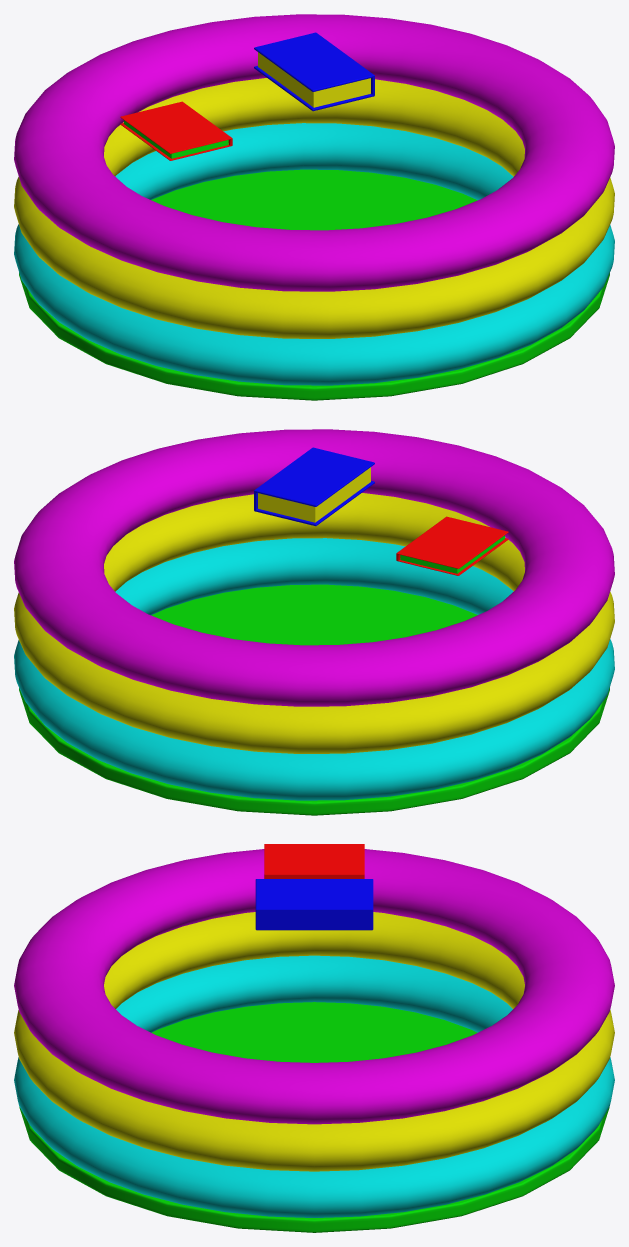
The model's file is BooksPool 1.fbx.
The picture shows the model from 3 angles, top to bottom: view 1: azimuth 30°, elevation 25°; view 2: azimuth 150°, elevation 25°; view 3: azimuth 270°, elevation 25°; orthographic projection.
Parts seen in each view (by area): view 1: kidpool, RecipeBook1, Notebook1; view 2: kidpool, RecipeBook1, Notebook1; view 3: kidpool, RecipeBook1, Notebook1.
Boxes of the visible parts, x1=… form: kidpool: x1=14, y1=14, x2=614, y2=400; RecipeBook1: x1=254, y1=32, x2=374, y2=111; Notebook1: x1=120, y1=101, x2=232, y2=160; kidpool: x1=14, y1=429, x2=614, y2=815; RecipeBook1: x1=254, y1=447, x2=374, y2=526; Notebook1: x1=396, y1=516, x2=508, y2=575; kidpool: x1=14, y1=849, x2=614, y2=1232; RecipeBook1: x1=255, y1=879, x2=373, y2=930; Notebook1: x1=264, y1=844, x2=364, y2=878.
Size of the model in its own units: 5.11 by 2.01 by 5.11.
